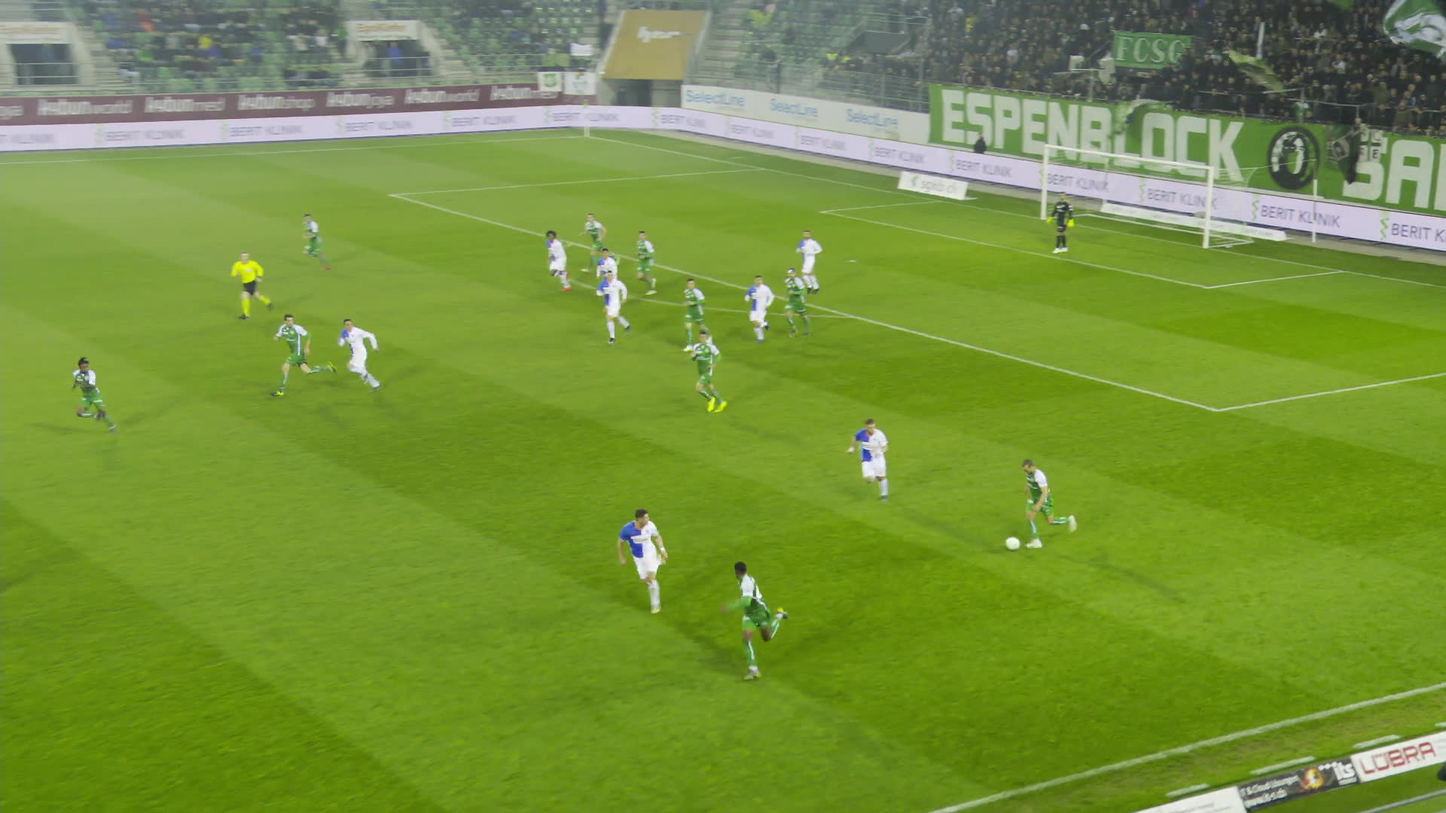ball: (1005, 537, 1019, 550)
player: (721, 560, 787, 674), (613, 507, 679, 609), (62, 355, 122, 440), (270, 314, 326, 396), (847, 416, 893, 507), (683, 330, 729, 416), (1020, 459, 1063, 545), (340, 317, 379, 397), (537, 228, 577, 291), (777, 269, 810, 339), (593, 273, 624, 345), (630, 227, 662, 293), (593, 245, 627, 306), (743, 275, 773, 344), (296, 214, 331, 273), (680, 279, 708, 351), (578, 215, 608, 275), (794, 230, 822, 293), (1045, 191, 1072, 253)
referee: (231, 254, 265, 321)
